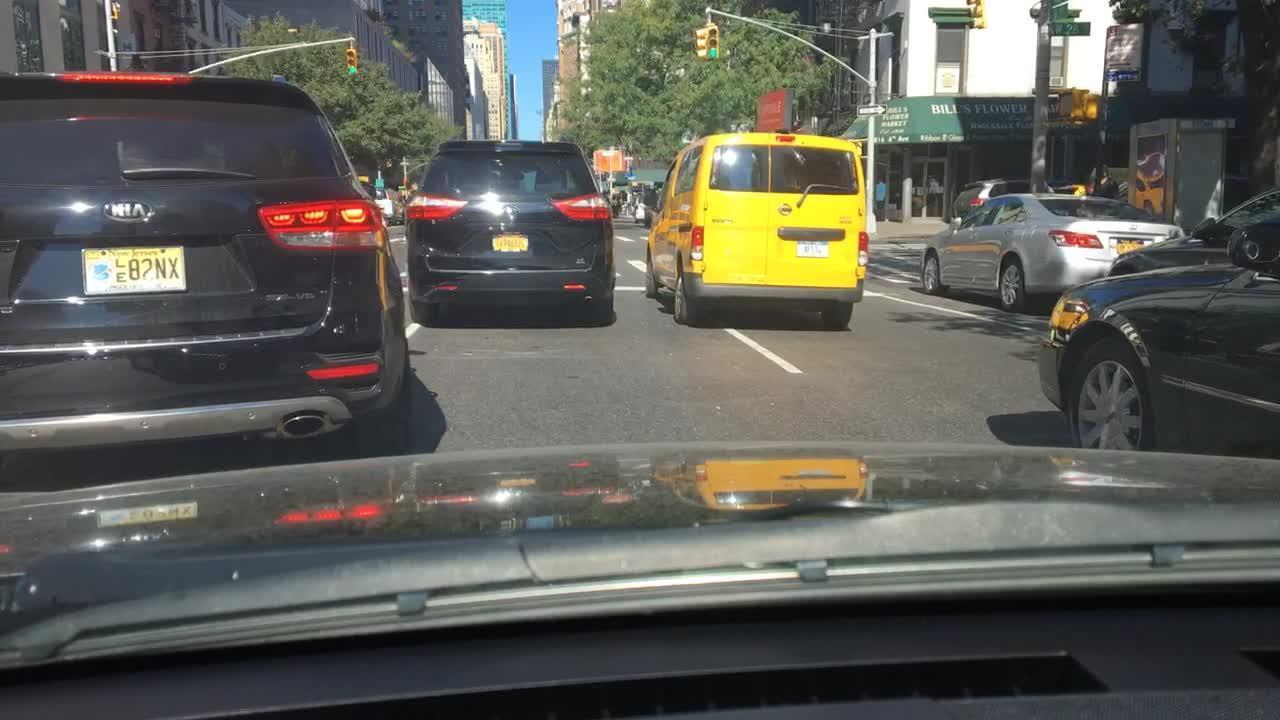Nissan: (776, 201, 797, 219)
kia: (99, 198, 155, 224), (499, 203, 521, 219)
